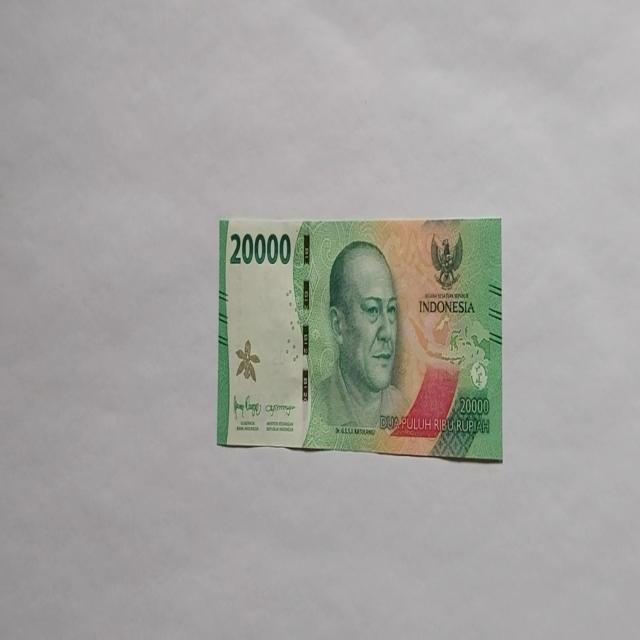dua puluh ribu rupiah: (216, 215, 502, 460)
